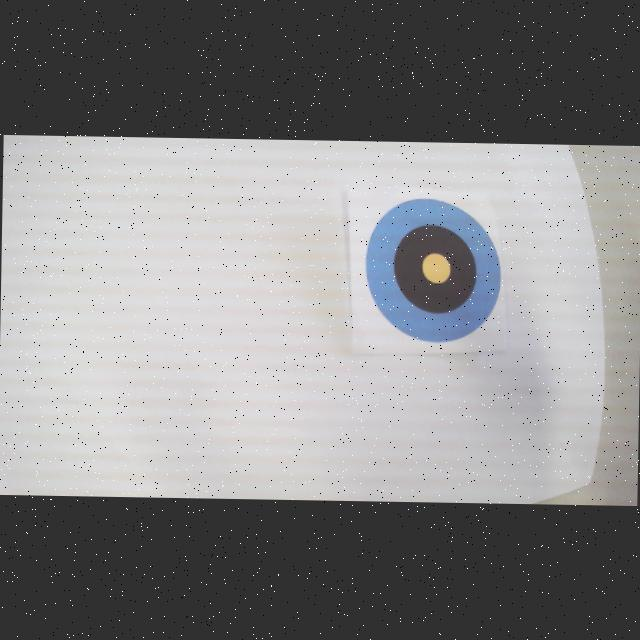COGNITIVE: (364, 196, 504, 344)
